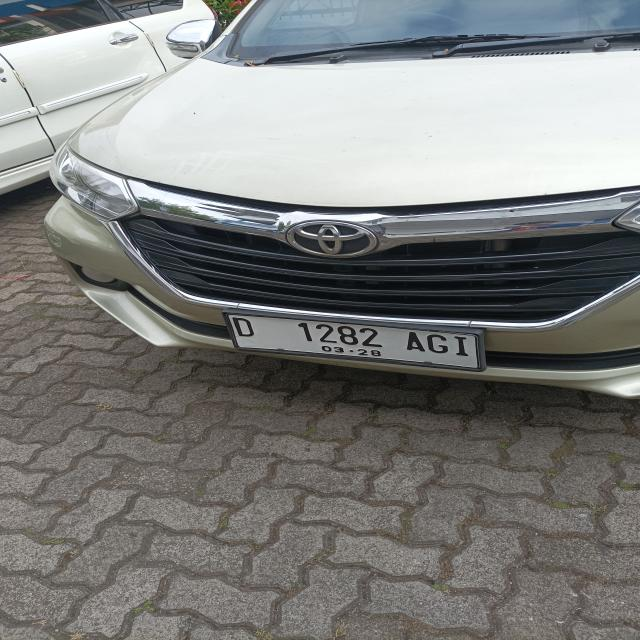license-plat: (221, 307, 487, 378)
